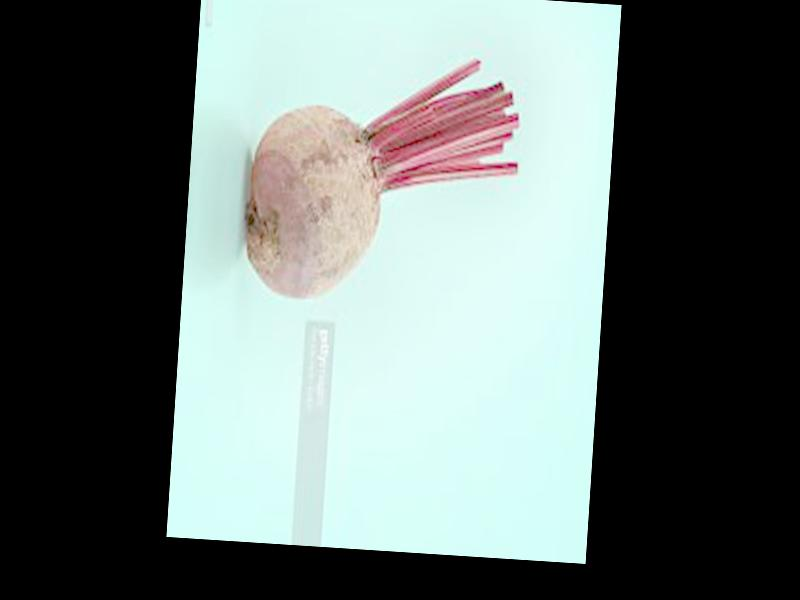Beet: (239, 46, 525, 312)
